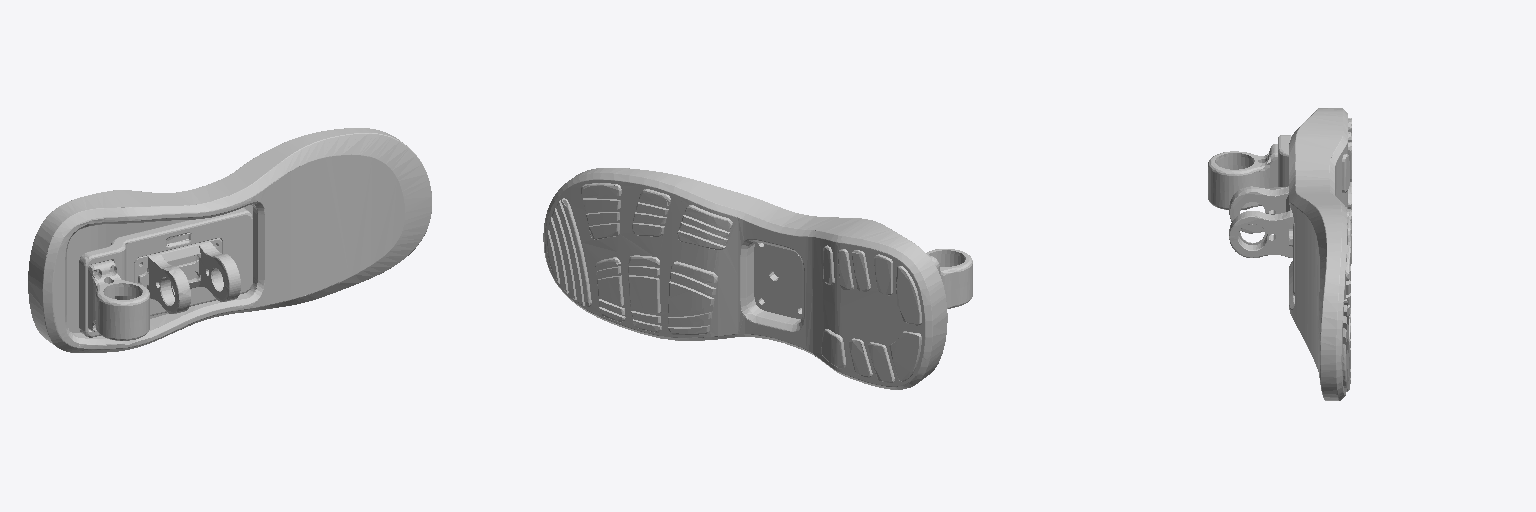
File: left_foot_roll_link.obj
3 views of the same model, side by side, from view 1: azimuth 30°, elevation 25°; view 2: azimuth 150°, elevation 25°; view 3: azimuth 270°, elevation 25° (orthographic).
Visible parts, largest first — view 1: left_foot_roll_link; view 2: left_foot_roll_link; view 3: left_foot_roll_link.
Part boxes in pixels (bbox=[...]): left_foot_roll_link: bbox=[28, 128, 431, 352]; left_foot_roll_link: bbox=[543, 168, 972, 389]; left_foot_roll_link: bbox=[1208, 108, 1351, 400].
Size of the model in its own units: 0.2514 by 0.0962 by 0.0799.